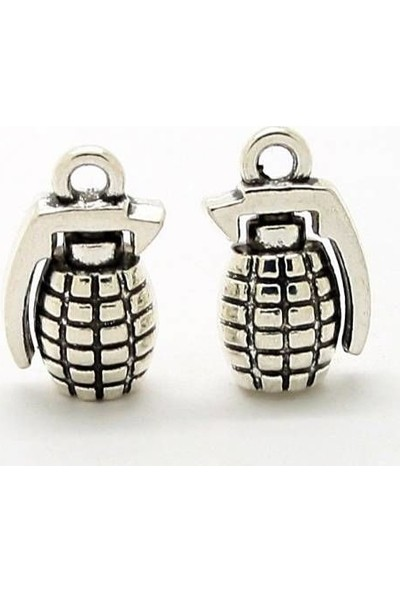e1: (209, 167, 377, 396), (4, 182, 164, 399)
